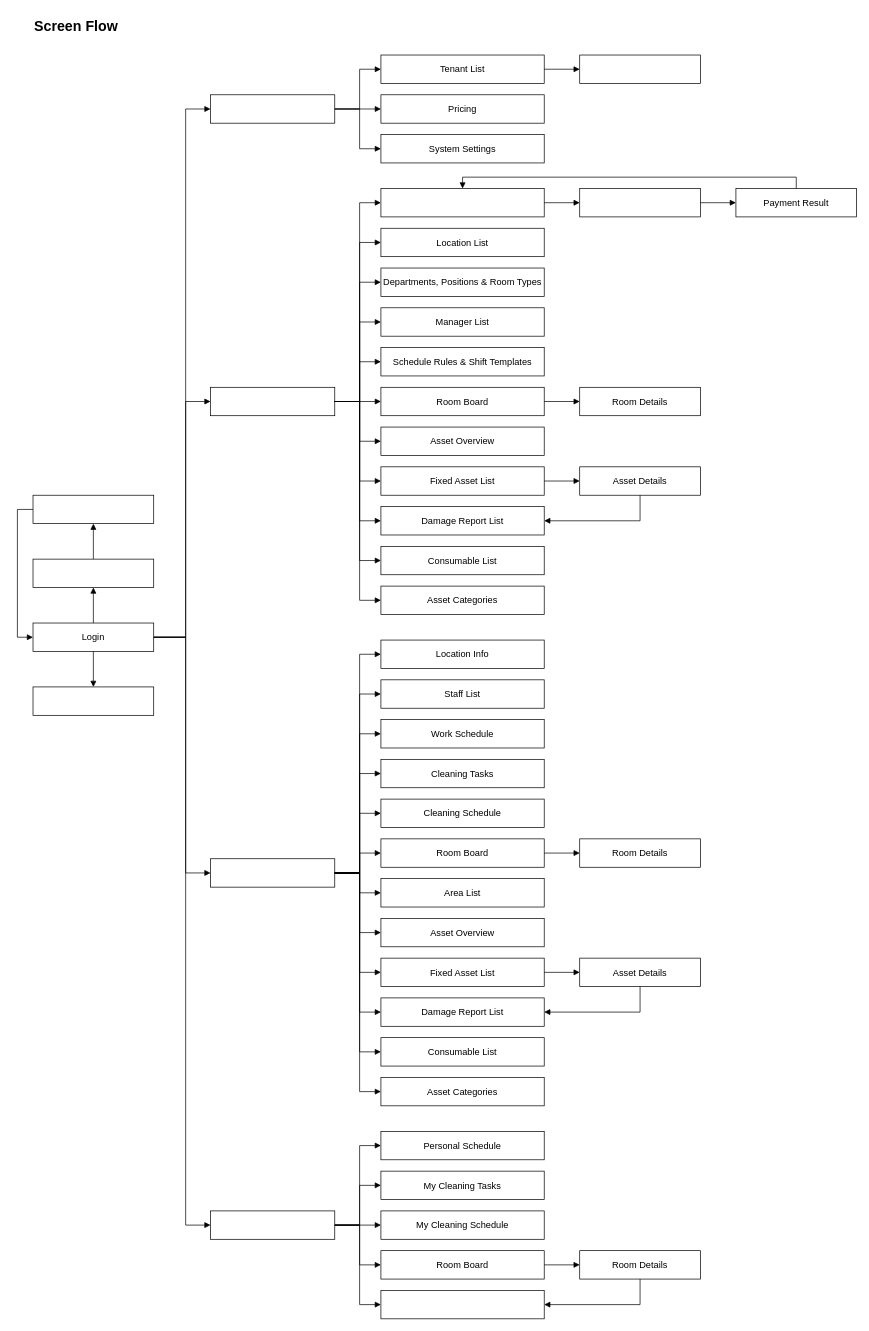
This 869x1331 diagram has some shape labels left out. Each missing label, with the centre of its shape:
"Admin Dashboard" belongs at [272,108].
"Change Password" belongs at [93,700].
"Director Dashboard" belongs at [272,401].
"Manager Dashboard" belongs at [272,872].
"My Damage Reports" belongs at [462,1304].
"Register Tenant" belongs at [93,573].
"Staff Dashboard" belongs at [272,1224].
"Subscription" belongs at [462,202].
"Tenant Details" belongs at [639,68].
"Verify Email" belongs at [93,509].
"VNPay Payment" belongs at [639,202].
